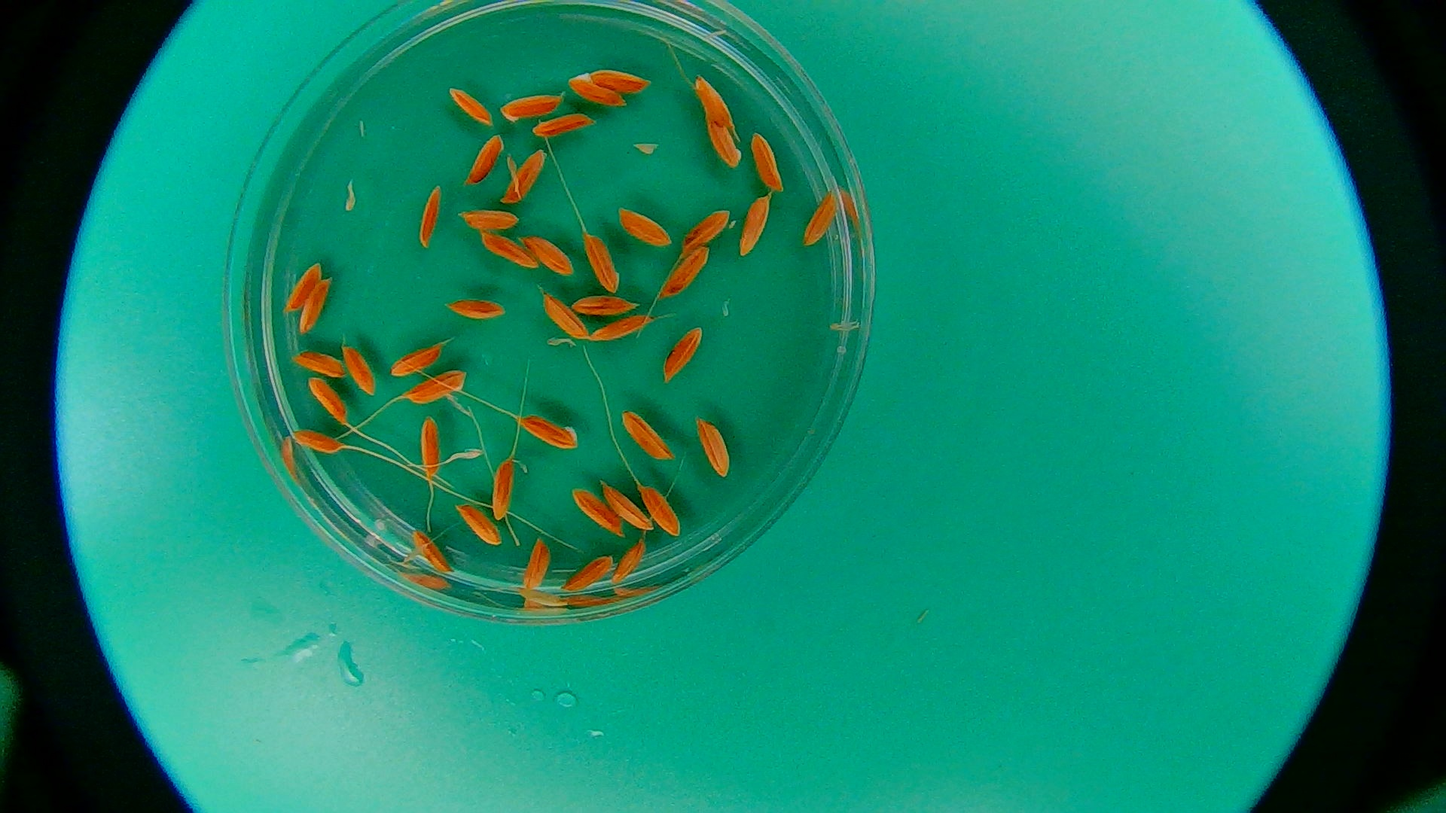no: (619, 407, 677, 466), (615, 199, 676, 253), (598, 475, 655, 531), (568, 485, 623, 540), (636, 480, 683, 541), (498, 148, 548, 205), (692, 415, 734, 482), (477, 228, 539, 273), (519, 231, 576, 279), (660, 245, 711, 298), (748, 131, 787, 196), (541, 288, 588, 341), (568, 69, 627, 111), (702, 109, 743, 169), (519, 412, 580, 452), (584, 230, 622, 294), (738, 193, 775, 258), (682, 208, 735, 253), (663, 324, 704, 382), (463, 133, 506, 187), (514, 531, 554, 589), (447, 84, 496, 130), (453, 504, 504, 548), (587, 315, 657, 347), (304, 373, 347, 425), (281, 261, 323, 313), (339, 342, 377, 399), (406, 369, 466, 405), (697, 75, 737, 129), (409, 528, 455, 574), (560, 556, 615, 594), (297, 278, 333, 335), (566, 291, 642, 318), (499, 91, 563, 123), (590, 66, 652, 99), (388, 345, 444, 378), (804, 190, 837, 246), (609, 540, 650, 585), (442, 294, 507, 322), (288, 349, 346, 379), (419, 185, 444, 253), (458, 205, 522, 231), (529, 114, 599, 137), (289, 429, 342, 458), (419, 416, 441, 482), (492, 458, 514, 522)
